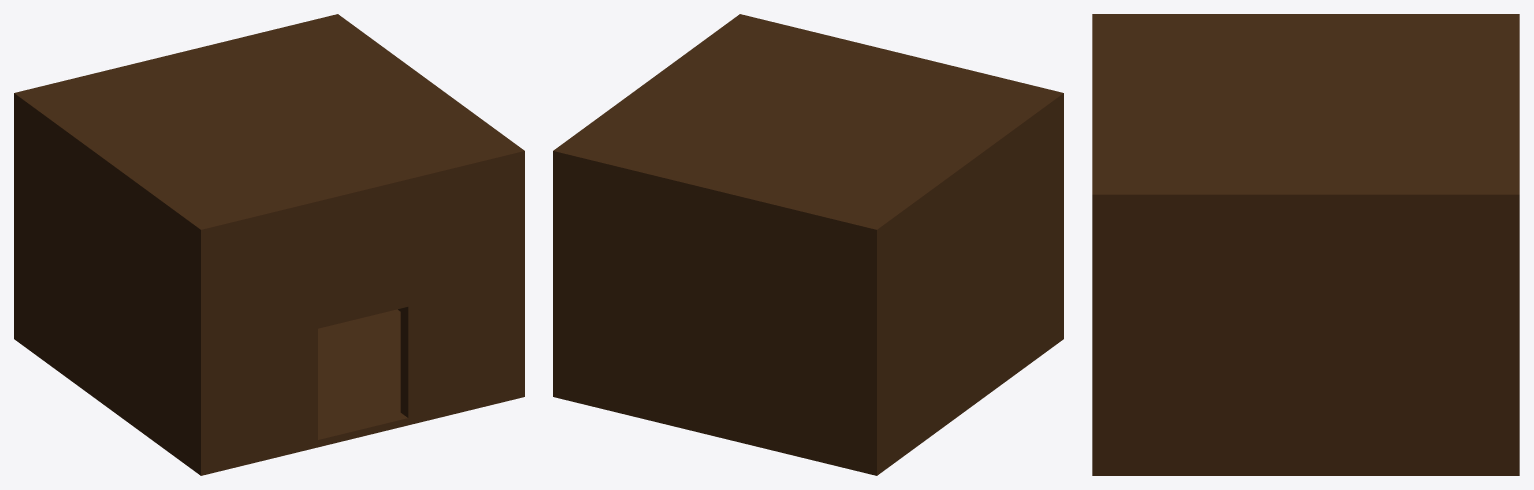
File: Housez Fix.fbx
3 renders of one model, left to right at view 1: azimuth 30°, elevation 25°; view 2: azimuth 150°, elevation 25°; view 3: azimuth 270°, elevation 25°, orthographic. The views are drawn at different scales.
Parts seen in each view (by area): view 1: House; view 2: House; view 3: House.
Boxes of the visible parts, x1,y1,x2,y2 form: House: [14, 14, 524, 475]; House: [553, 14, 1063, 475]; House: [1092, 14, 1519, 475].
Bounding box in the file's own units: 862 × 625 × 862.
